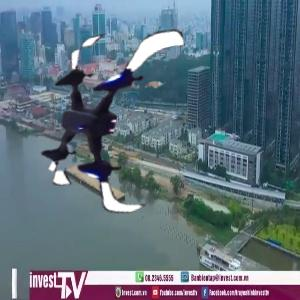drone: (14, 32, 203, 221)
